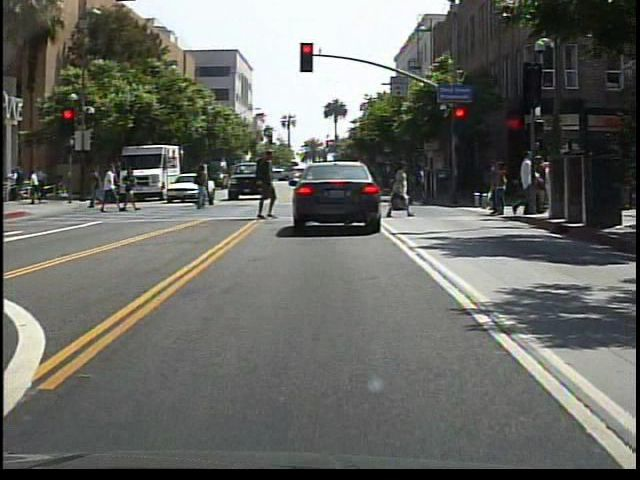person: (251, 149, 284, 224), (510, 149, 533, 218), (386, 160, 412, 220), (103, 163, 126, 217), (84, 165, 107, 213), (192, 166, 211, 214), (198, 165, 217, 209), (123, 168, 138, 213)
